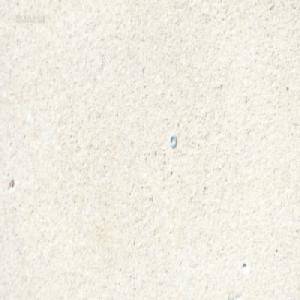Washer: (169, 134, 176, 150)
